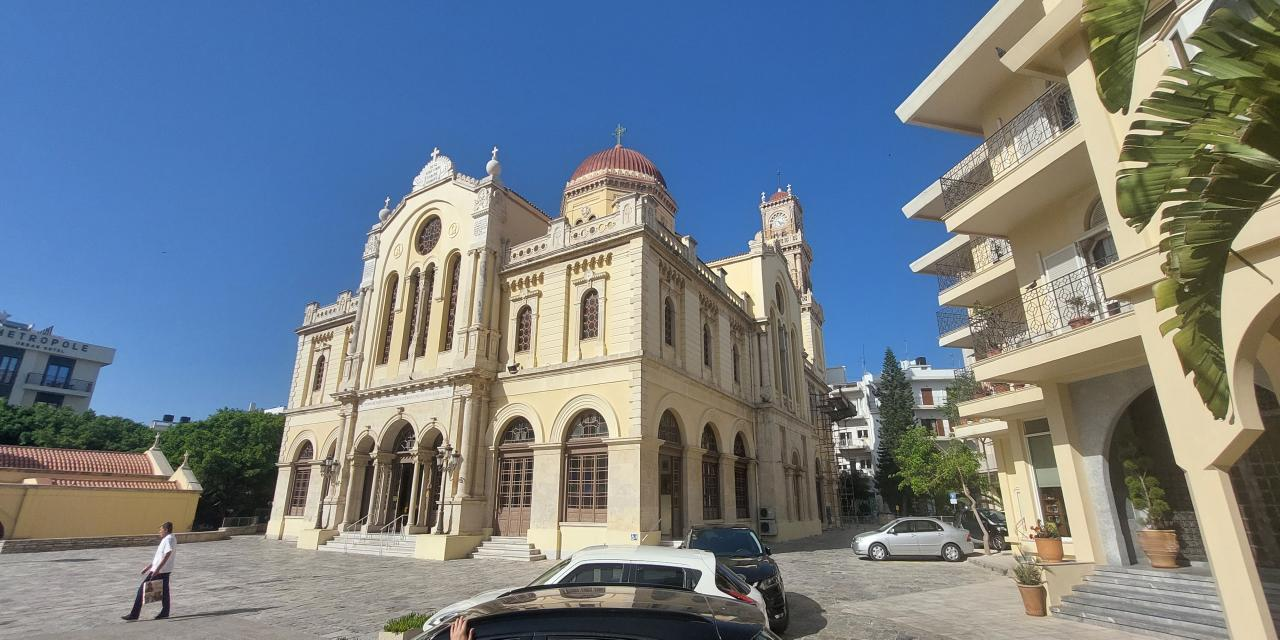Agios Minas: (263, 113, 842, 563)
